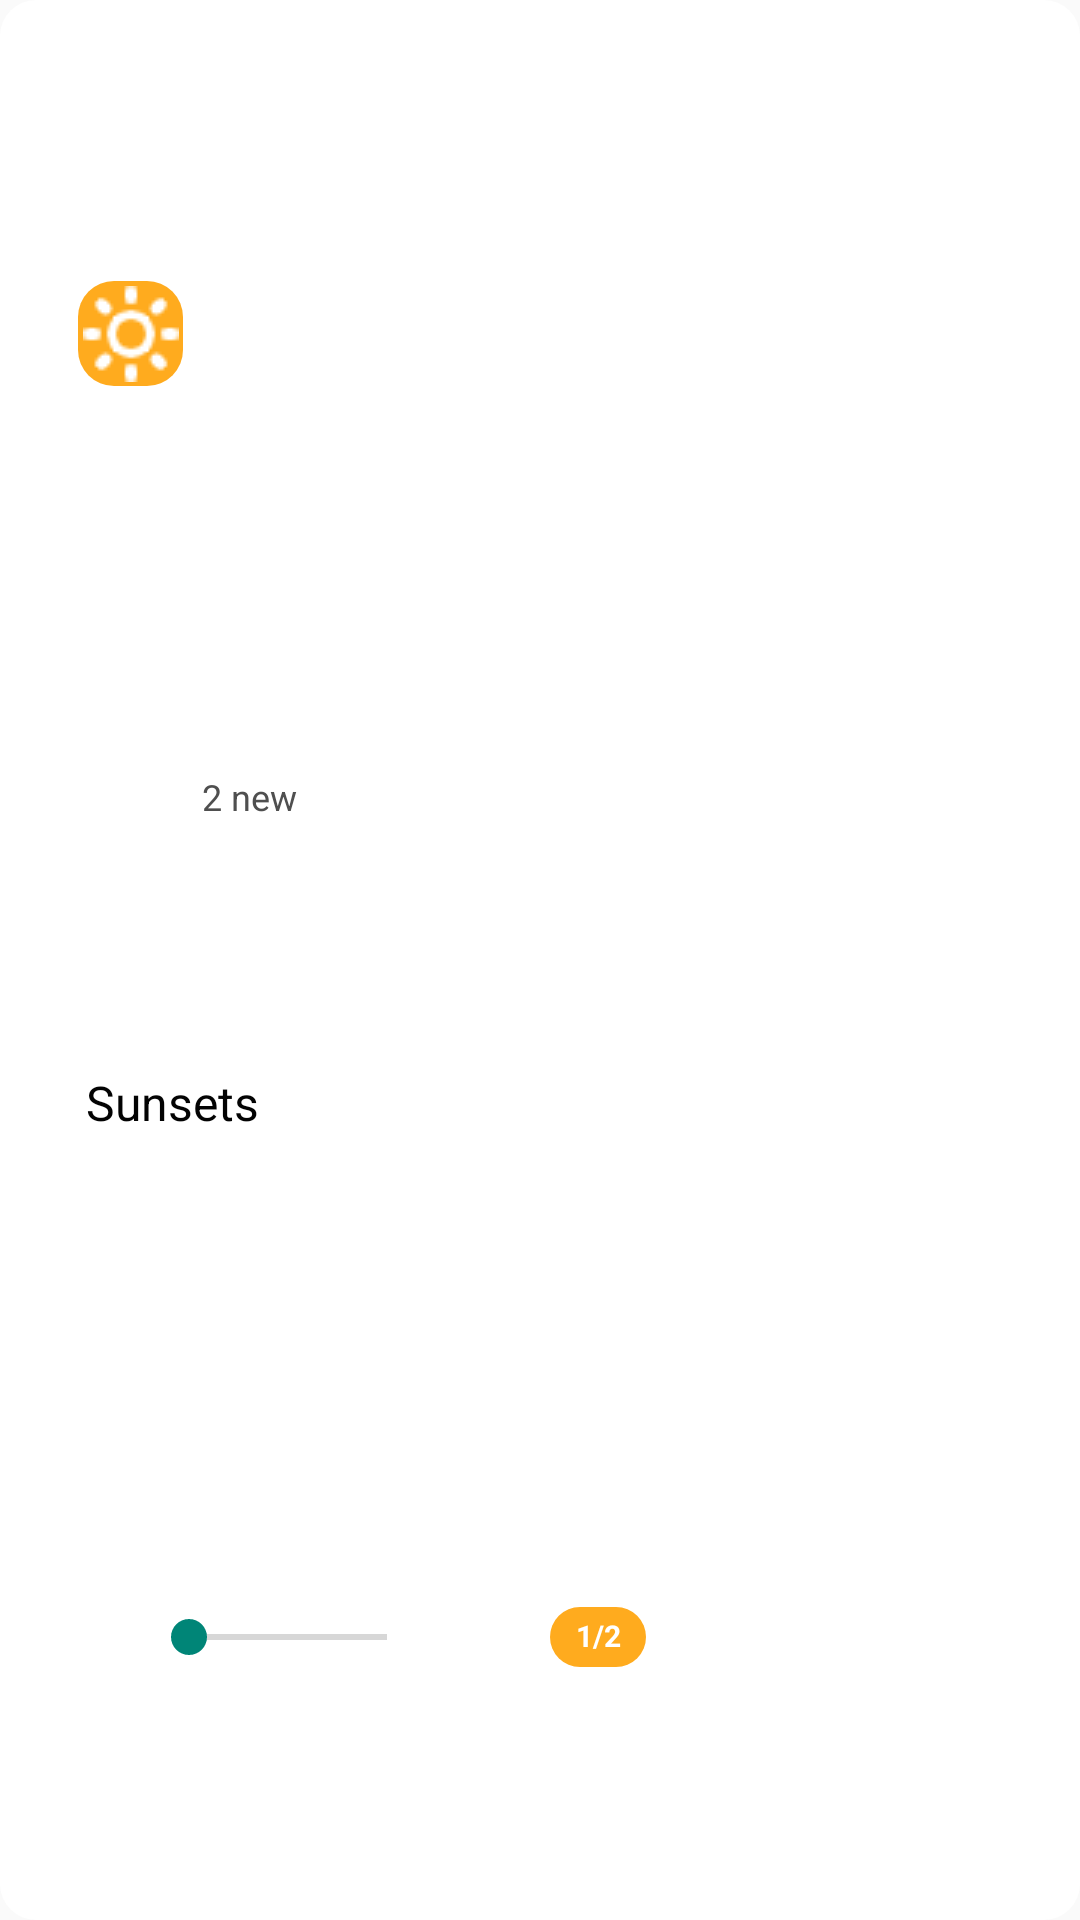

Named icons in this screenshot (1080×1920) and their bounding boxes, (x1,y1,x2,y2):
sun: (78,281,183,386)
